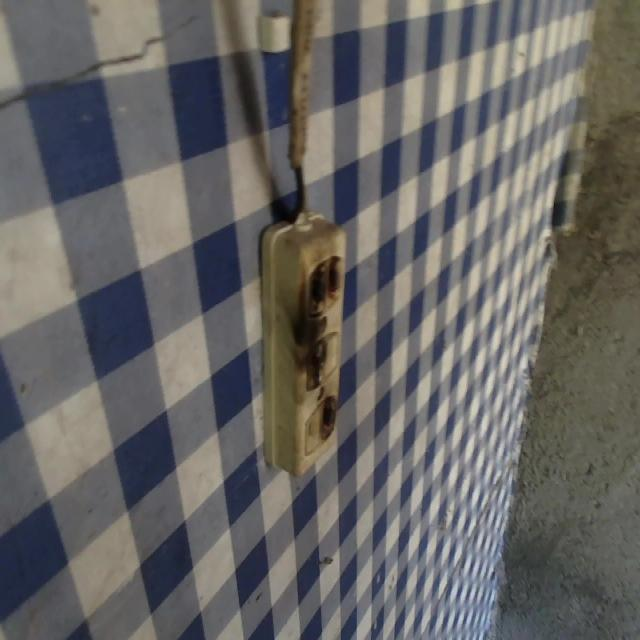-: (304, 254, 343, 314), (304, 335, 327, 392), (323, 394, 337, 442)
